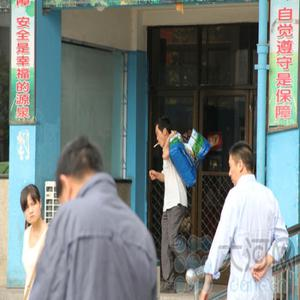cigarette: (151, 142, 159, 149)
